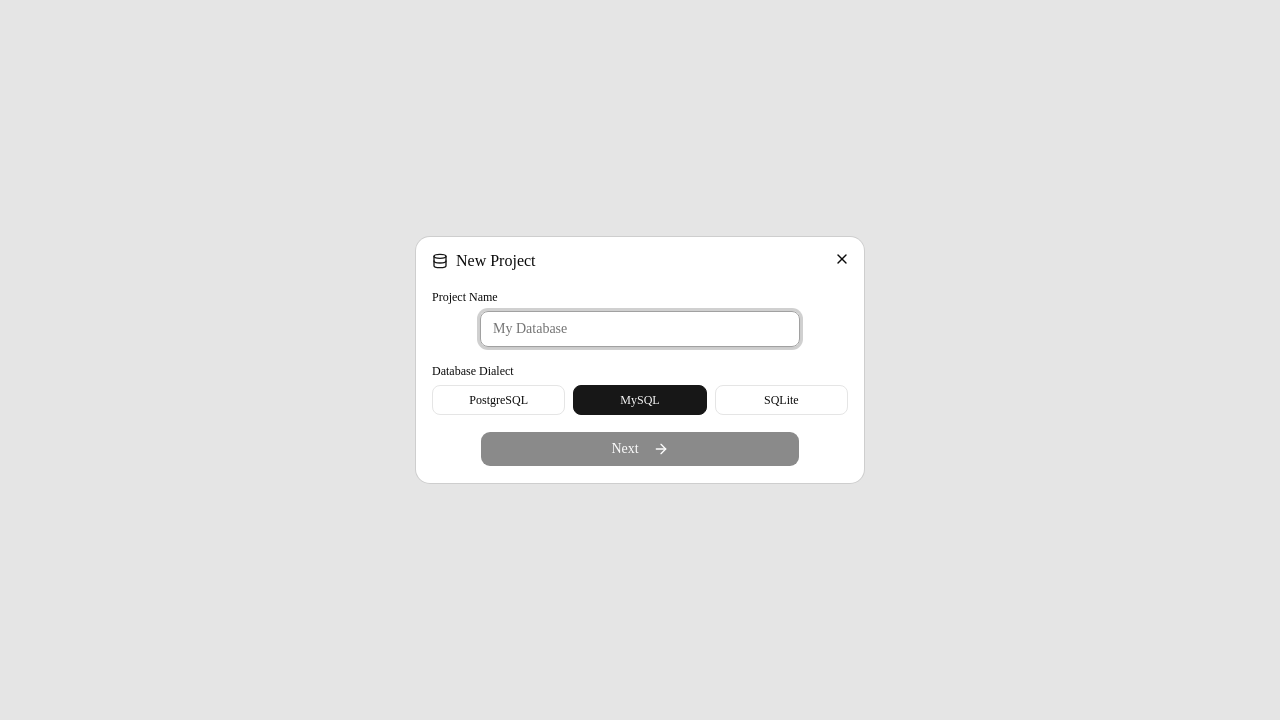
Scenario: NewProjectWizard › goes to step 2 on Next click
Type "Test" into the field with placeholder "My Database" at (640, 329), box [480, 311, 800, 347]
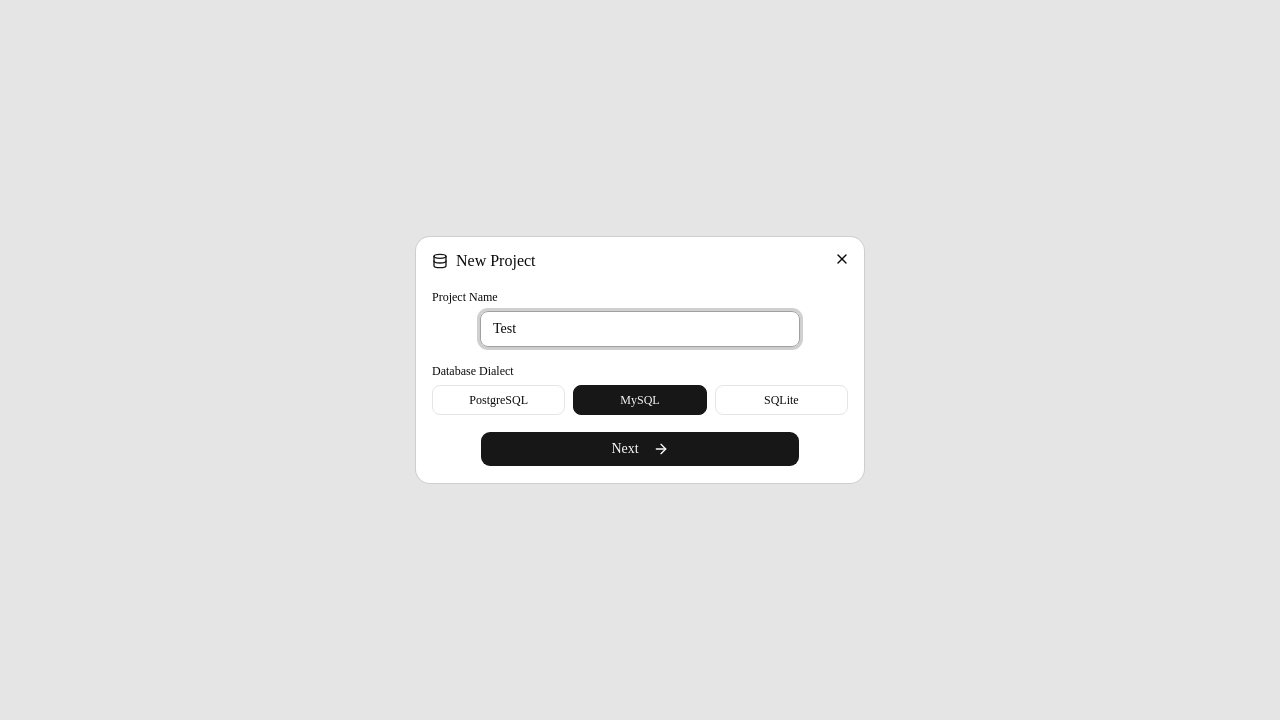
Click the button "Next" at (640, 449), box [480, 431, 800, 467]
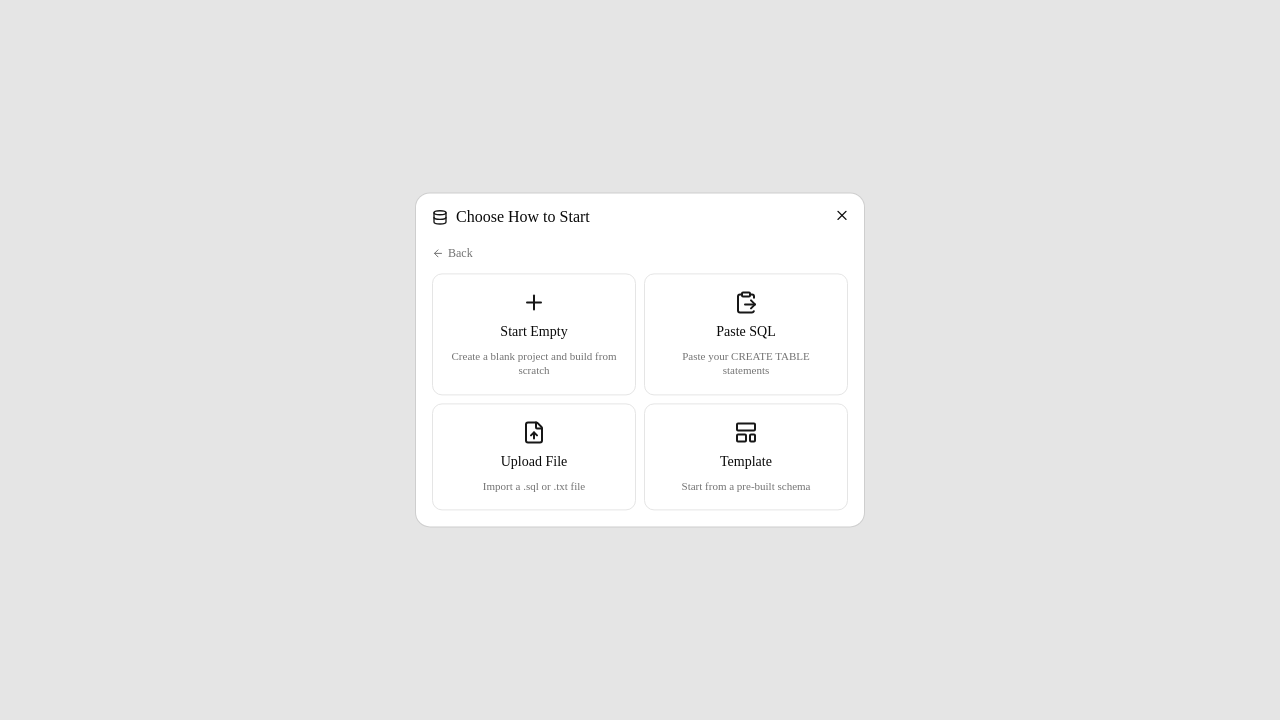
expect the text "Start Empty" is shown: met, box [500, 322, 568, 342]
expect the text "Paste SQL" is shown: met, box [716, 322, 776, 342]
